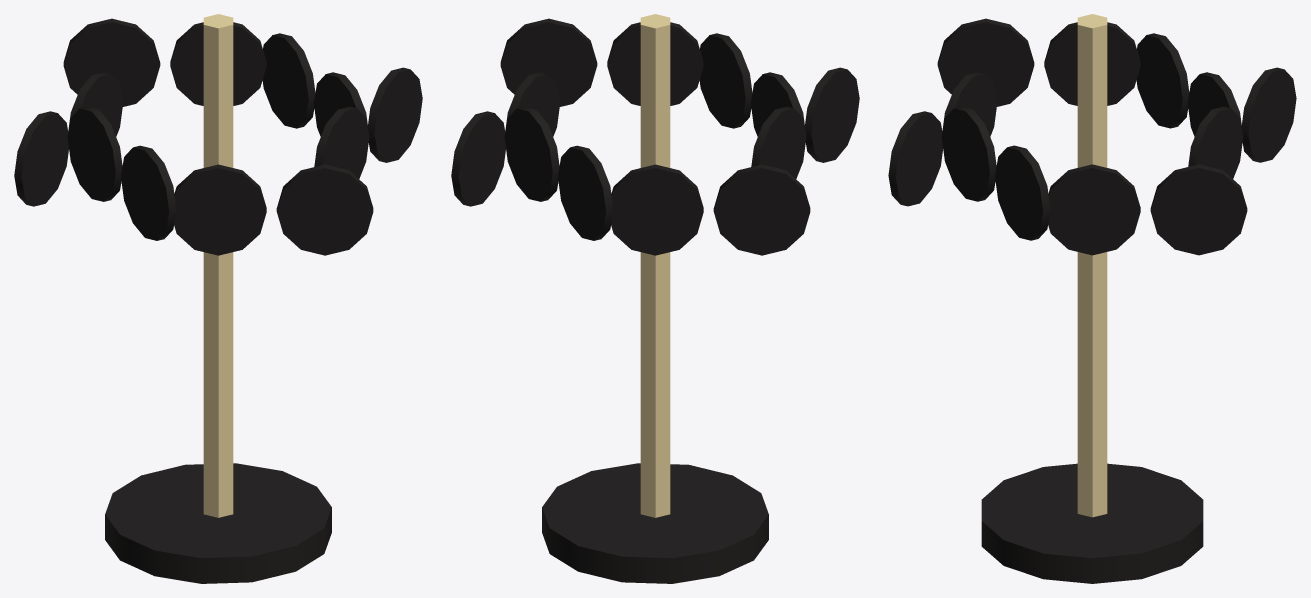
Rendered from sunglasses_stand.glb.
3 views of the same model, side by side, from view 1: azimuth 30°, elevation 25°; view 2: azimuth 150°, elevation 25°; view 3: azimuth 270°, elevation 25° (orthographic).
Visible parts, largest first — view 1: sunglasses_stand; view 2: sunglasses_stand; view 3: sunglasses_stand.
Boxes of the visible parts, x1,y1,x2,y2 form: sunglasses_stand: (14,14,422,583); sunglasses_stand: (451,14,859,583); sunglasses_stand: (888,14,1296,583).
Bounding box in the file's own units: 0.2918 × 0.4 × 0.2874.
